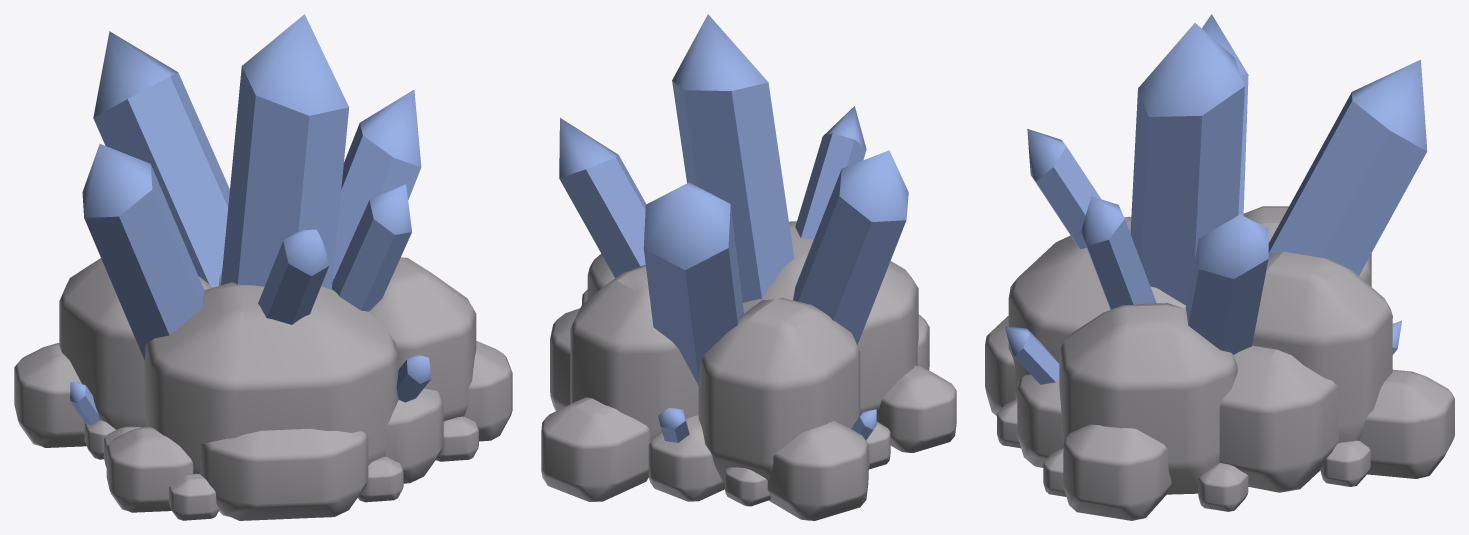
File: blauwe kristallen.fbx
3 renders of one model, left to right at view 1: azimuth 30°, elevation 25°; view 2: azimuth 150°, elevation 25°; view 3: azimuth 270°, elevation 25°, orthographic. The views are drawn at different scales.
Visible parts, largest first — view 1: polySurface109; view 2: polySurface109; view 3: polySurface109.
Boxes of the visible parts, box(x1,y1,x2,y2) form: polySurface109: box(14, 14, 512, 520); polySurface109: box(541, 14, 956, 520); polySurface109: box(985, 14, 1454, 520).
Size of the model in its own units: 1.3 by 1.37 by 1.34.
